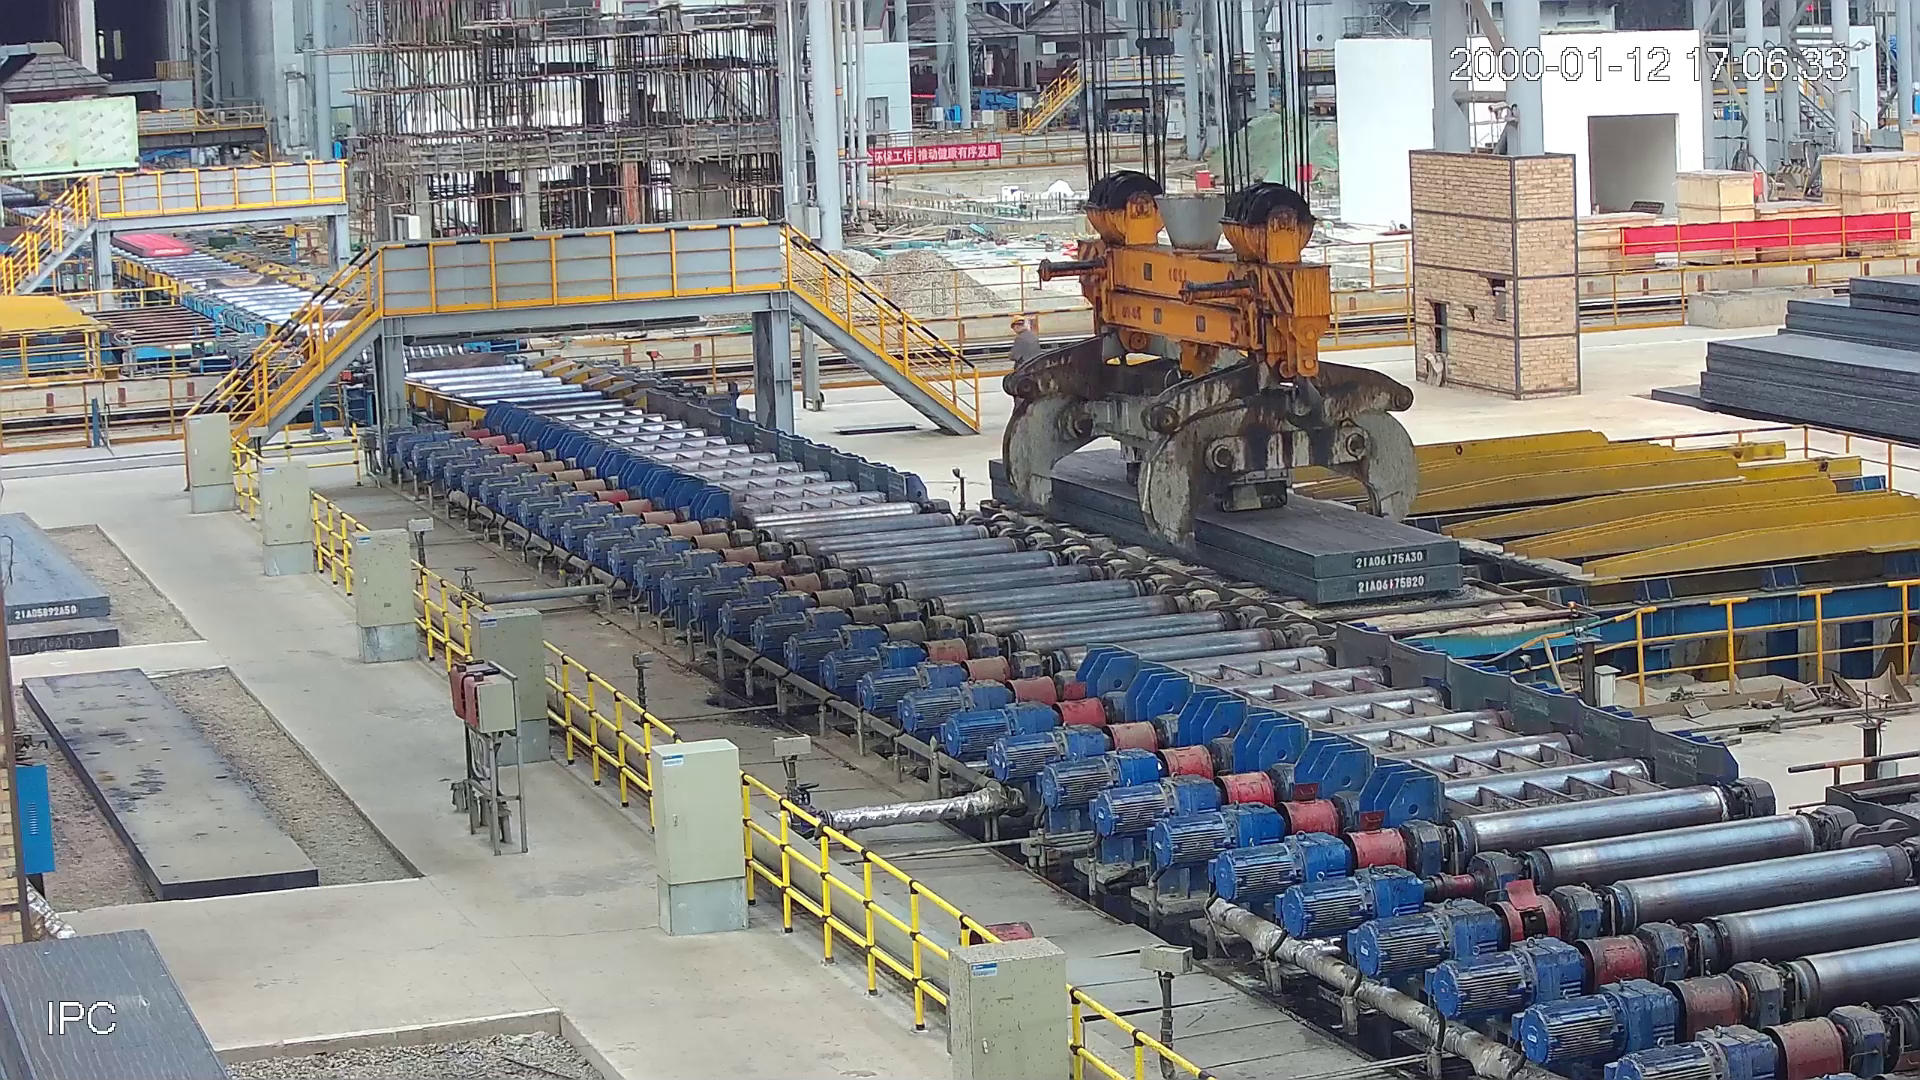craneandslab: (992, 175, 1469, 601)
slab: (109, 232, 193, 257)
